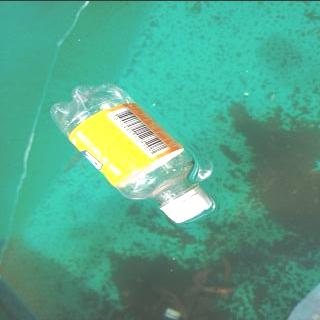bottle: (48, 80, 216, 222)
